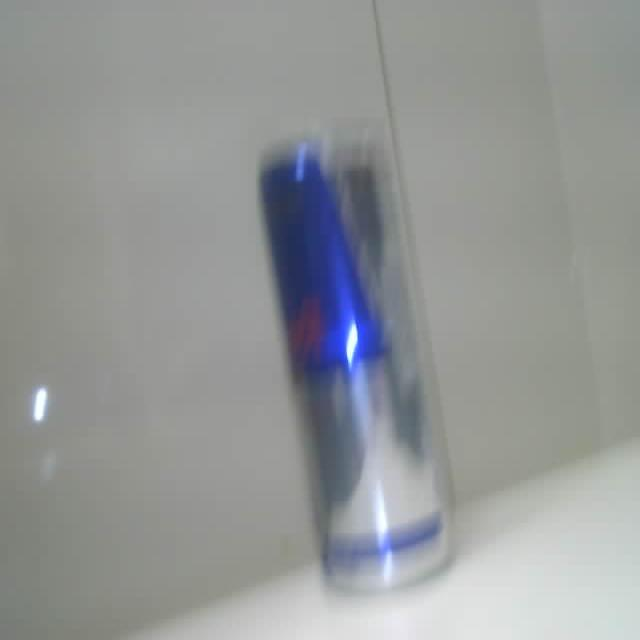redbull can: (260, 138, 448, 589)
